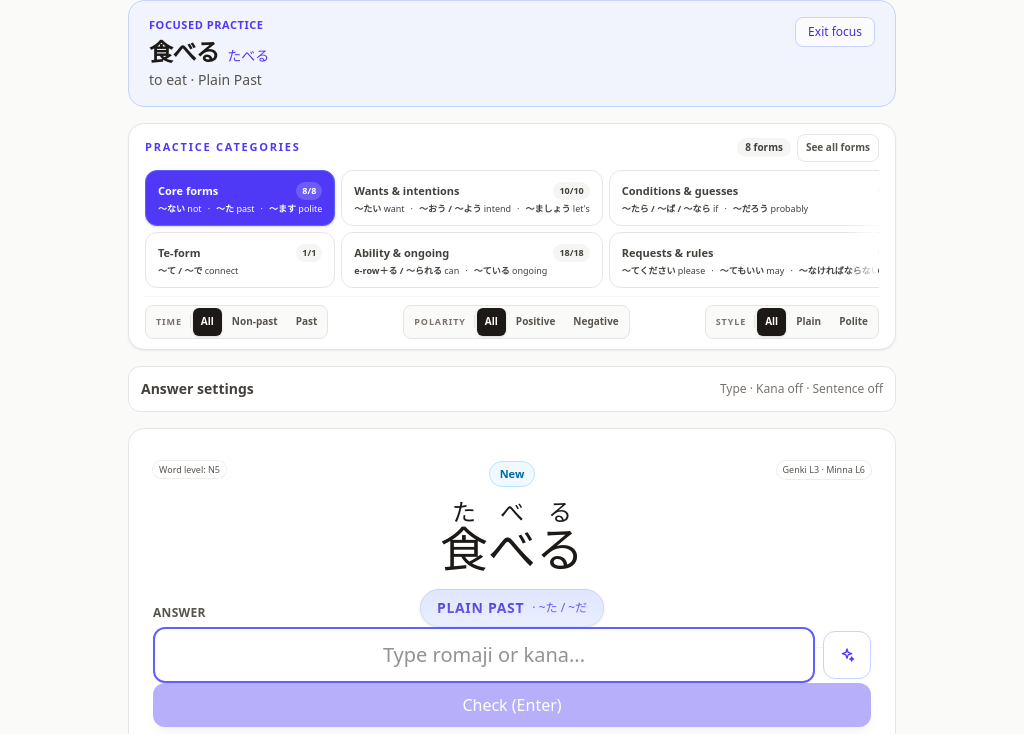
Test: StudyView continuous Practice startup › counts revealed kana followed by an exact answer as an assisted miss
Click the button named "Reveal next kana".
click(847, 655)  # box [823, 631, 871, 679]
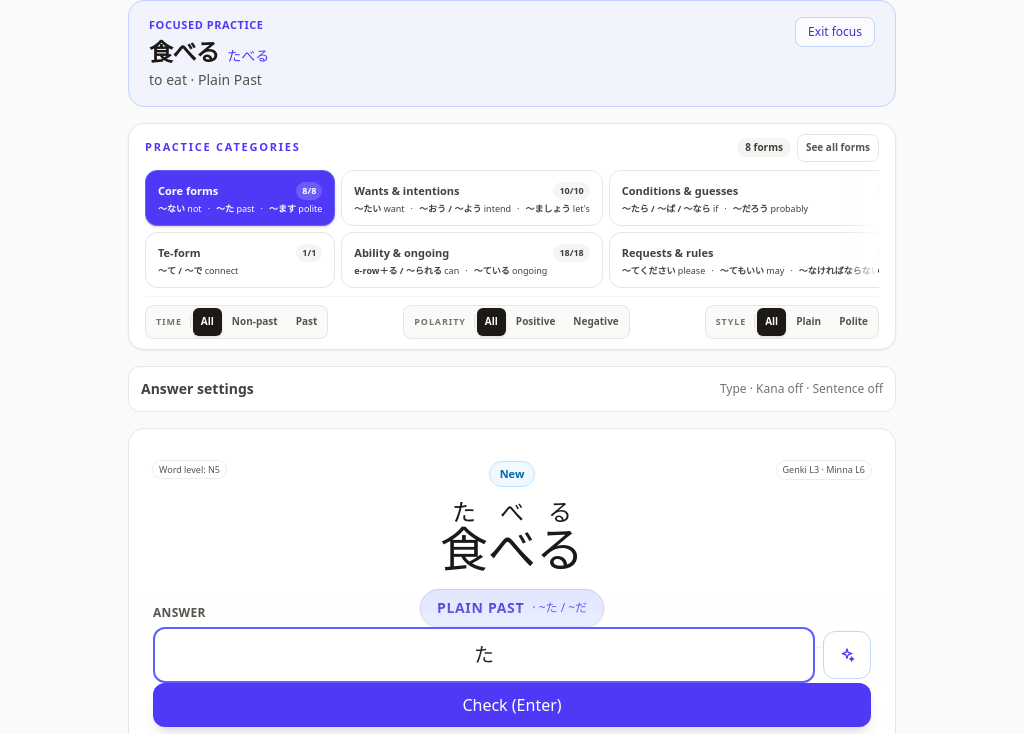
Expected: the field with placeholder "Type romaji or kana..." holds "た"
Replace the text in the field with placeholder "Type romaji or kana..." with "たべた" at [484, 655], box [153, 627, 815, 683]
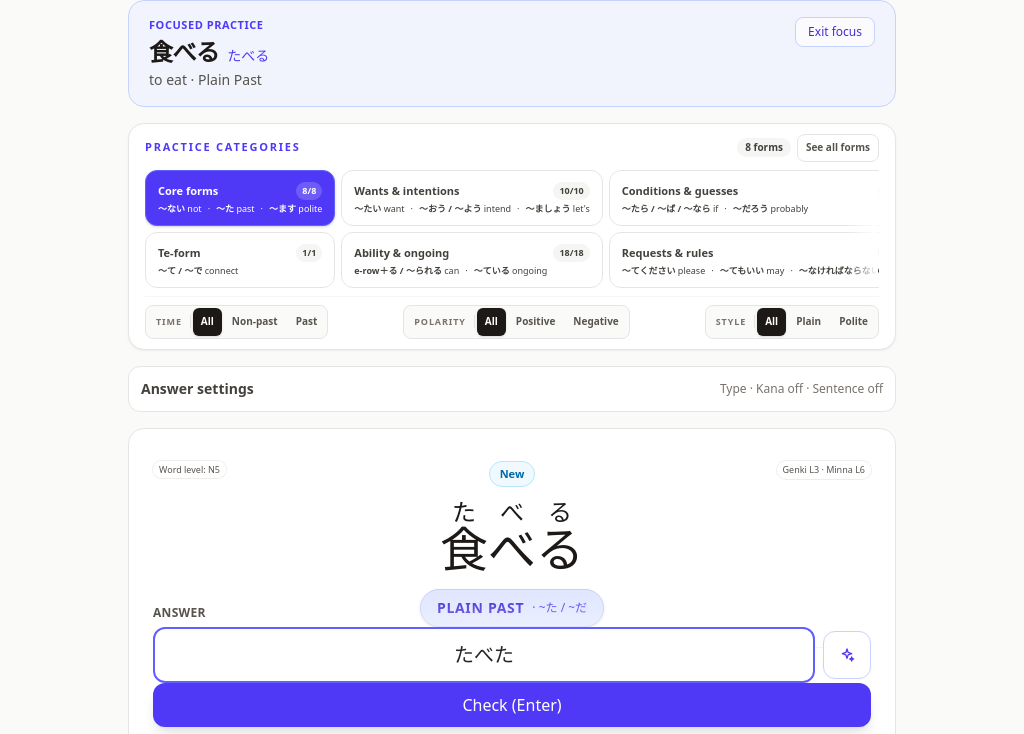
Click the button "Check (Enter)".
click(512, 705)  # box [153, 683, 871, 727]
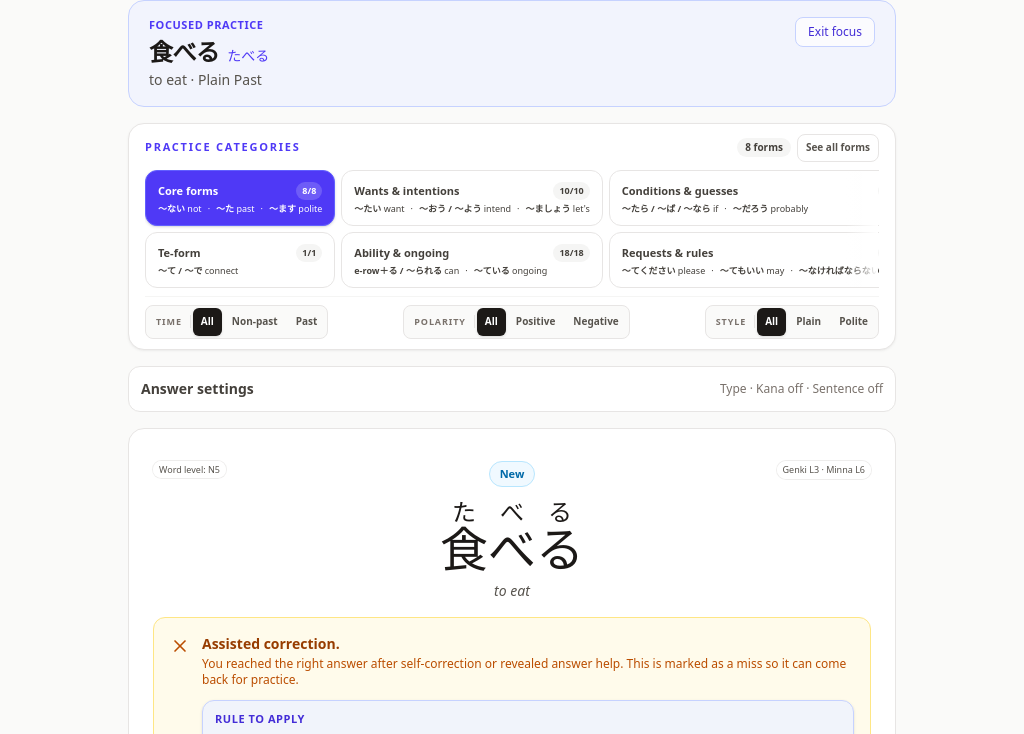
Expected: the text "revealed answer help" is shown, [202, 655, 846, 688]
Expected: the text "Rule to apply" is shown, [215, 711, 305, 726]
